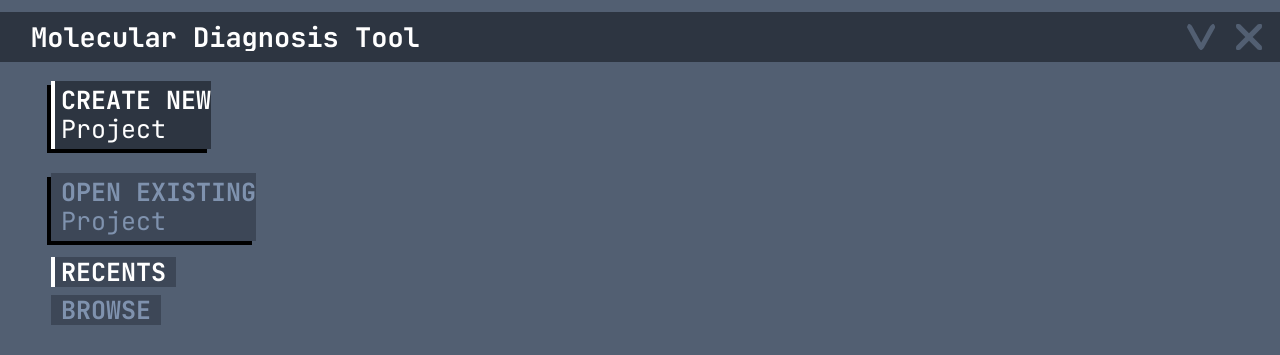
Test: the project page › shows the persistent title and the linked files with their counts
Click the button "Open Existing Project" at (154, 207), box x1=51 y1=173 x2=256 y2=241
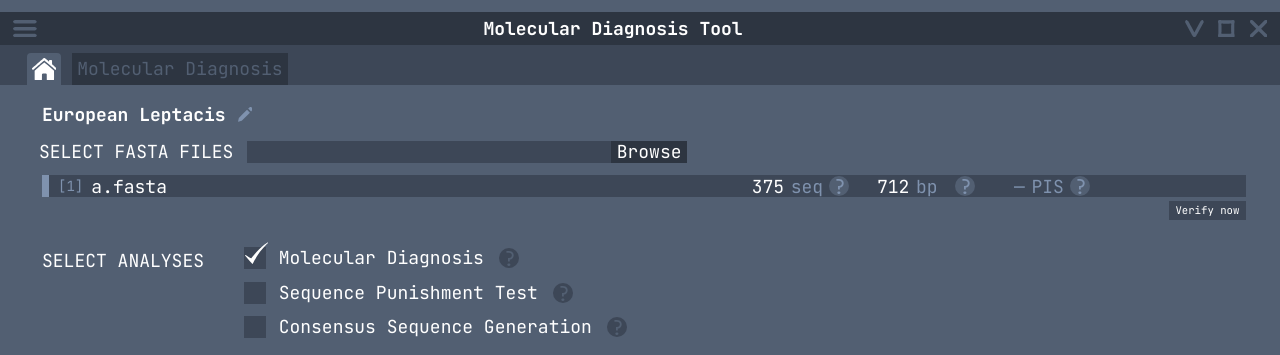
Result: the heading "European Leptacis" is shown at x1=42 y1=105 x2=226 y2=125
Result: the text "a.fasta" is shown at x1=91 y1=176 x2=167 y2=197
Result: the text "375" is shown at x1=752 y1=176 x2=784 y2=197
